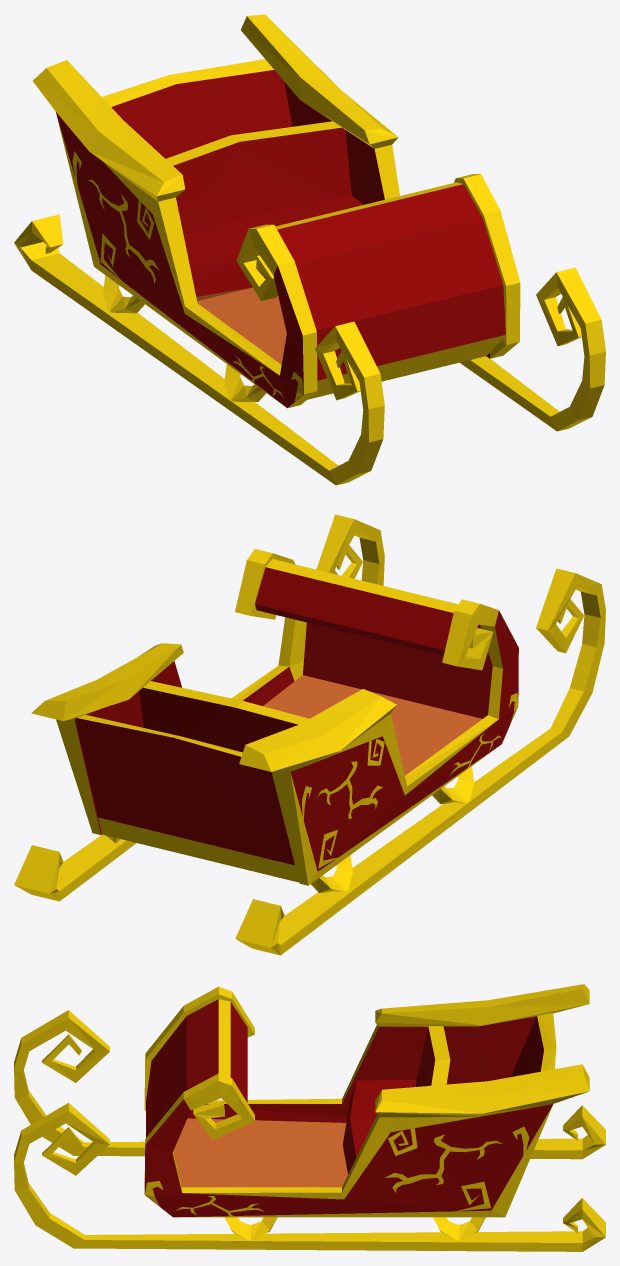
Rendered from Objet2_05.glb.
3 views of the same model, one above another, from view 1: azimuth 30°, elevation 25°; view 2: azimuth 150°, elevation 25°; view 3: azimuth 270°, elevation 25° (orthographic). The views are drawn at different scales.
Parts seen in each view (by area): view 1: Sleight; view 2: Sleight; view 3: Sleight.
Boxes of the visible parts, bbox=[...] form: Sleight: bbox=[14, 14, 605, 485]; Sleight: bbox=[14, 514, 605, 955]; Sleight: bbox=[14, 984, 605, 1251].
Size of the model in its own units: 151 by 113 by 350.
Materials: 1 (1 with a texture image).
